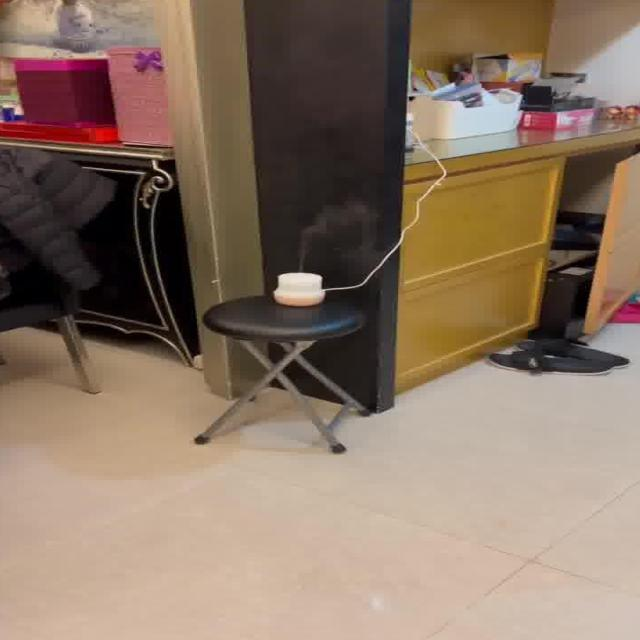fire: (296, 206, 370, 268)
